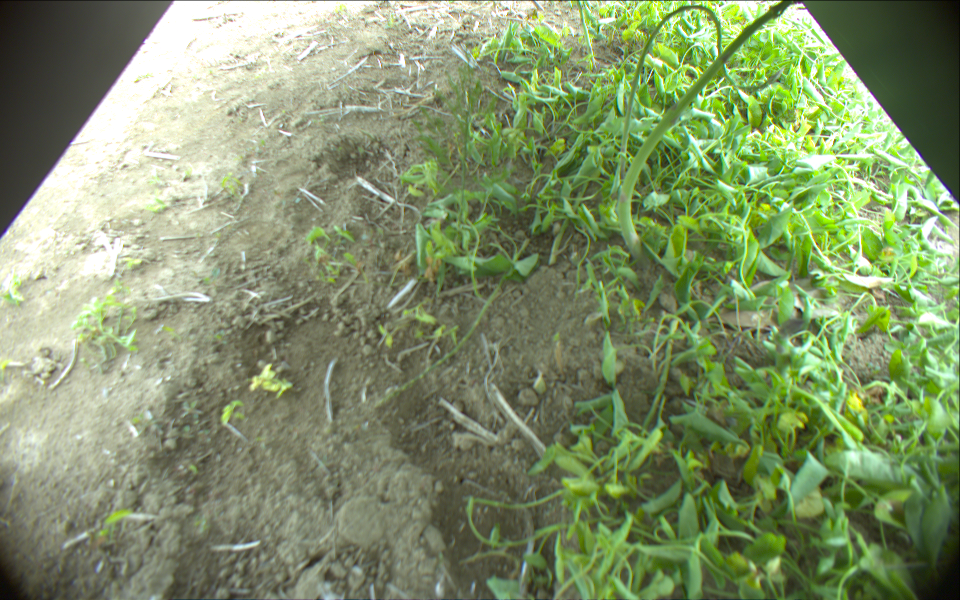aspa: (617, 1, 813, 254), (615, 2, 726, 185), (575, 1, 599, 68)
